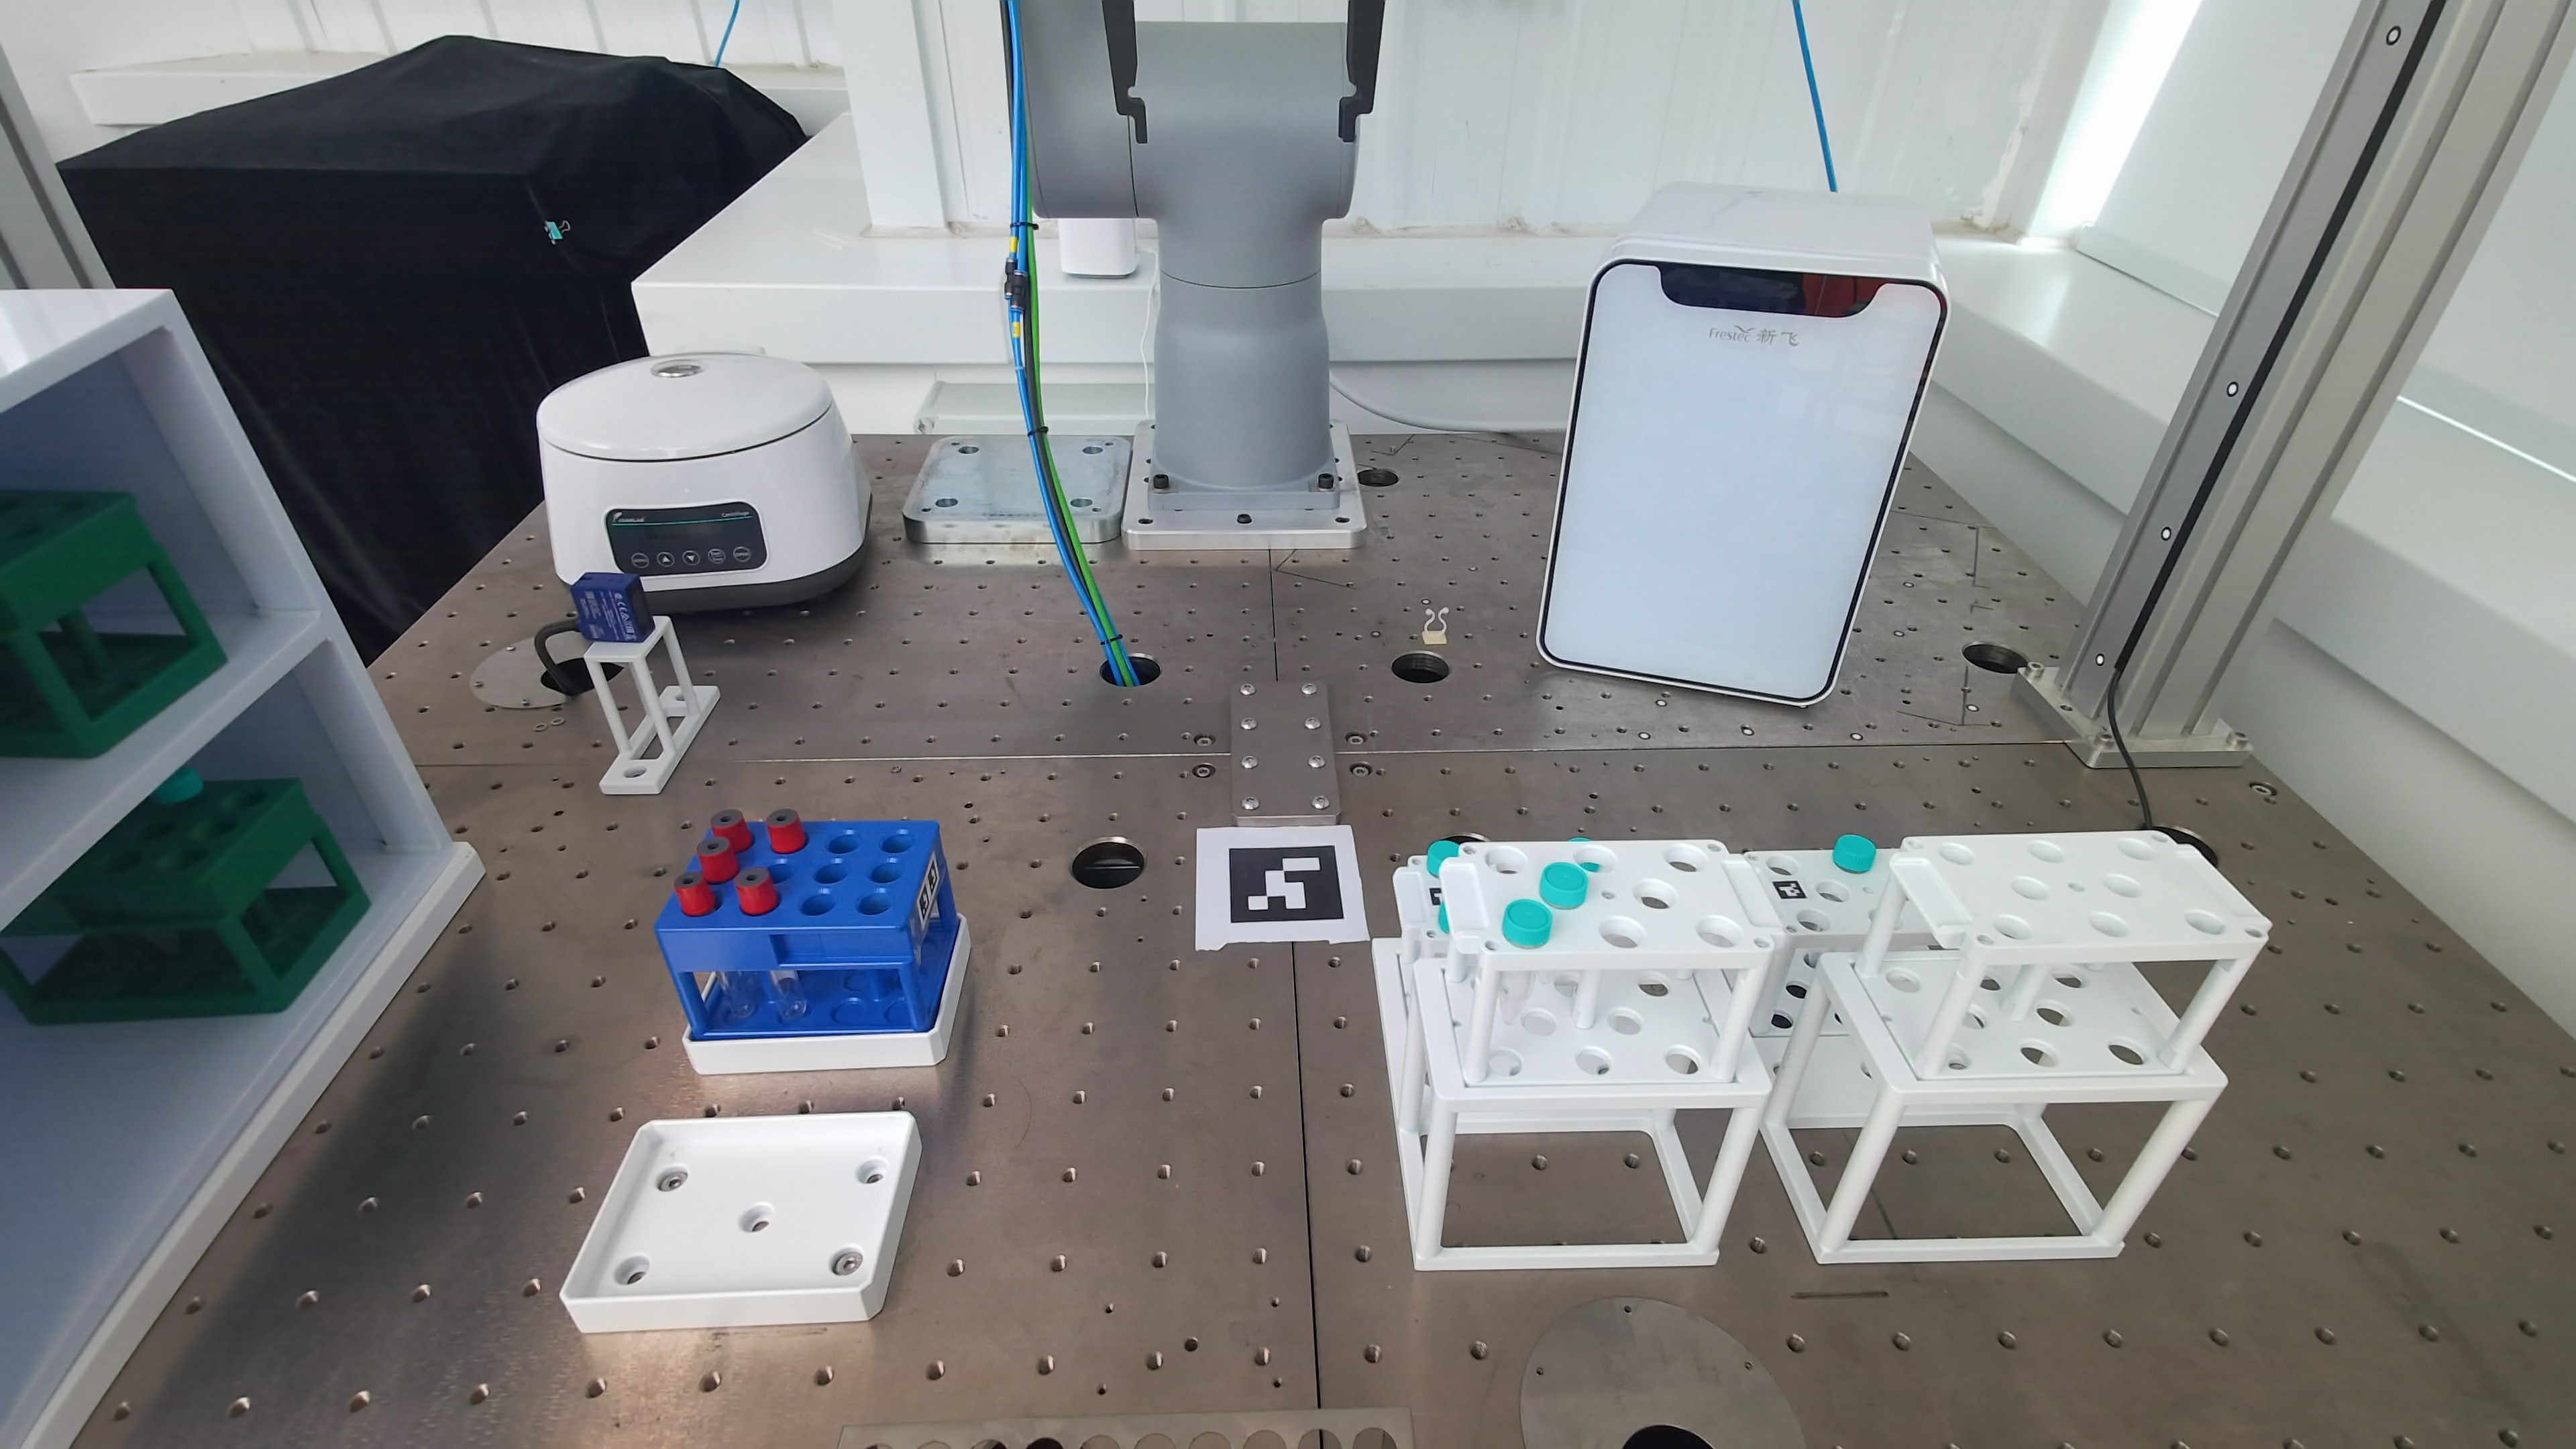10ML_centrifuge_tube: (150, 766, 203, 805), (1833, 835, 1877, 874), (1426, 839, 1460, 878), (1435, 902, 1449, 932)
10ML_sorting_tube_rack: (655, 821, 959, 1040)
5ML_centrifuge_tube: (1502, 862, 1589, 948)
5ML_sorting_tube_rack: (0, 770, 370, 1024), (0, 490, 226, 757)
blood_tube: (697, 833, 740, 883), (674, 872, 717, 916), (711, 809, 752, 853)
centrifuge_close: (538, 352, 870, 614)
dispensing_tube_rack: (1375, 830, 2268, 1269)
refrigerator_close: (1537, 184, 1948, 706)
sorting_tube_rack_base: (561, 1111, 920, 1334), (683, 918, 971, 1074)
tube_rack_storage_cabinet: (0, 290, 478, 1444)
